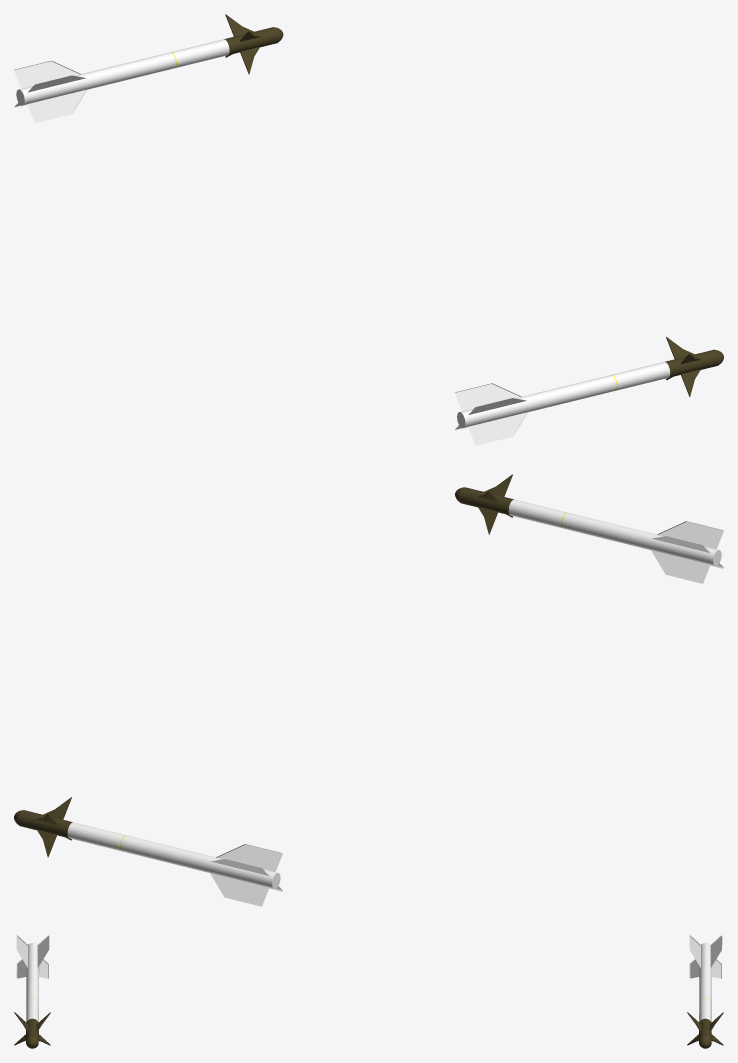
The model's file is aim9fa18e29.glb.
3 renders of one model, top to bottom at view 1: azimuth 30°, elevation 25°; view 2: azimuth 150°, elevation 25°; view 3: azimuth 270°, elevation 25°, orthographic. The views are drawn at different scales.
Parts seen in each view (by area): view 1: 円柱.001, 円柱.005; view 2: 円柱.005, 円柱.001; view 3: 円柱.005, 円柱.001.
Boxes of the visible parts, x1,y1,x2,y2 form: 円柱.001: (14, 14, 283, 123); 円柱.005: (455, 337, 723, 445); 円柱.005: (455, 474, 723, 583); 円柱.001: (14, 797, 282, 906); 円柱.005: (14, 935, 50, 1048); 円柱.001: (687, 935, 723, 1048).
Size of the model in its own units: 3.38 by 0.543 by 10.41.
Materials: 2 (2 with a texture image).
